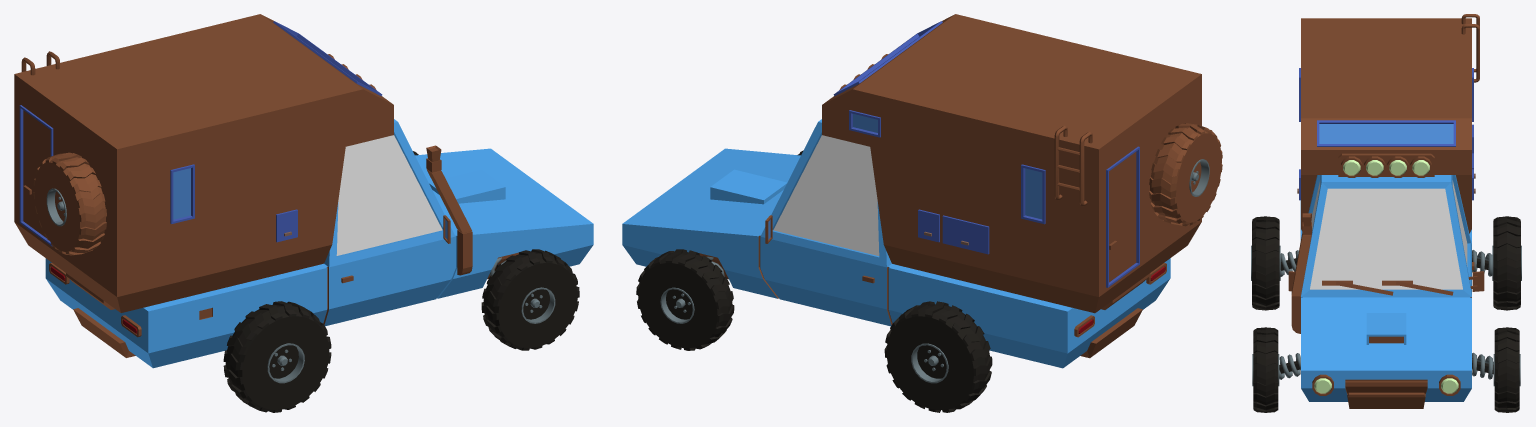
File: jeep_new.glb
The picture shows the model from 3 angles, left to right: view 1: azimuth 30°, elevation 25°; view 2: azimuth 150°, elevation 25°; view 3: azimuth 270°, elevation 25°; orthographic projection. The views are drawn at different scales.
Visible parts, largest first — view 1: Frame, Rear_wheel.001, Front_wheel.001; view 2: Frame, Rear_wheel, Front_wheel; view 3: Frame, Rear_wheel.001, Rear_wheel, Front_wheel.001, Front_wheel, Spring.002, Spring, Spring.001, Spring.003.
Part boxes in pixels (left/top/right/bottom): Frame: left=14, top=14, right=593, bottom=368; Rear_wheel.001: left=223, top=301, right=331, bottom=412; Front_wheel.001: left=481, top=249, right=579, bottom=350; Frame: left=622, top=14, right=1222, bottom=368; Rear_wheel: left=884, top=301, right=992, bottom=412; Front_wheel: left=636, top=249, right=734, bottom=350; Frame: left=1288, top=14, right=1484, bottom=408; Rear_wheel.001: left=1251, top=216, right=1280, bottom=310; Rear_wheel: left=1492, top=216, right=1521, bottom=310; Front_wheel.001: left=1252, top=327, right=1279, bottom=412; Front_wheel: left=1493, top=327, right=1520, bottom=412; Spring.002: left=1279, top=353, right=1300, bottom=379; Spring: left=1472, top=352, right=1493, bottom=379; Spring.001: left=1472, top=250, right=1492, bottom=276; Spring.003: left=1280, top=250, right=1298, bottom=276.
Size of what is drawn, in the model's own units: 5.75 by 3.1 by 3.16.
